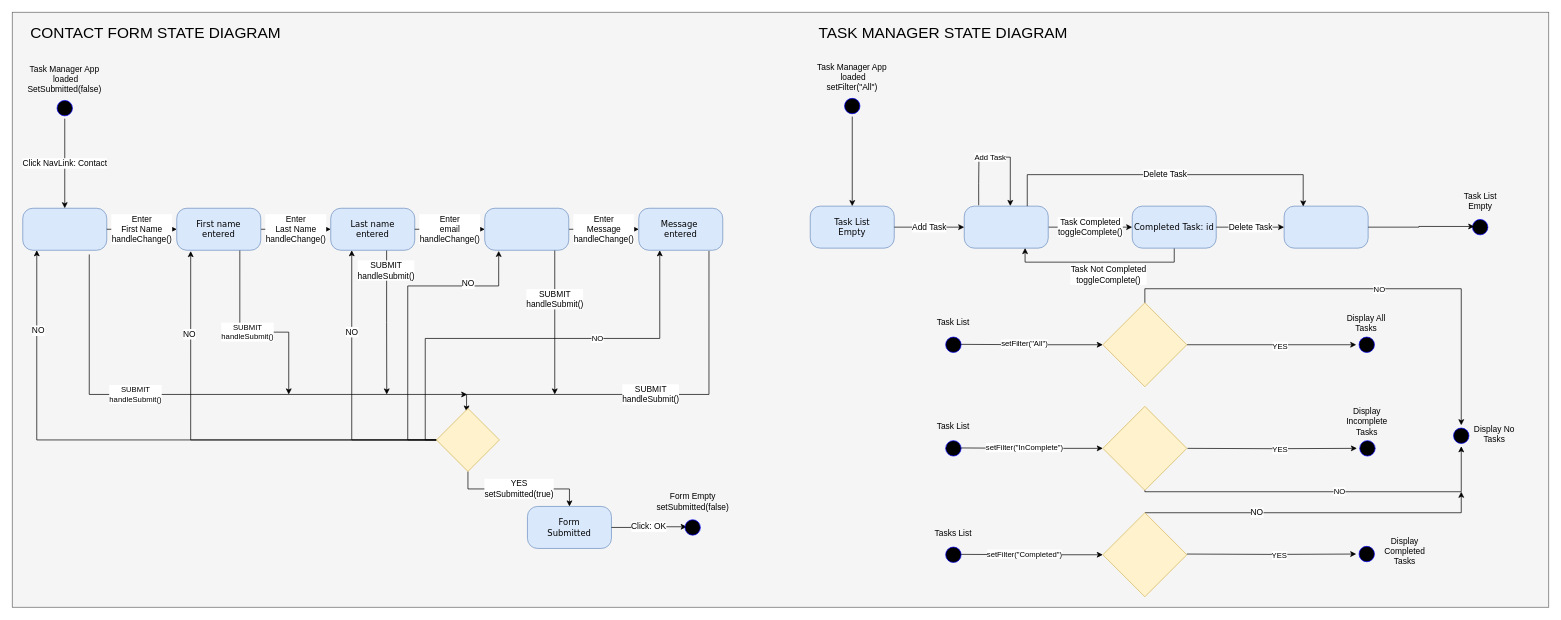
Some shapes in this 1561 by 620 pixel diagram are drawn without their labels. Here are the shapes that lost their labels. From the top down, the box of each, then its label:
(22, 208, 107, 250): Form Empty
(484, 208, 569, 250): Email entered
(964, 205, 1048, 248): Task Added: id (Incompleted)
(1283, 205, 1368, 248): Task Deleted: id
(1102, 302, 1187, 387): Is task Completed or Incomplete?
(436, 408, 499, 471): Is Form Completed?
(1102, 406, 1187, 490): Is task Incomplete?
(1102, 512, 1187, 597): Is task Complete ?
